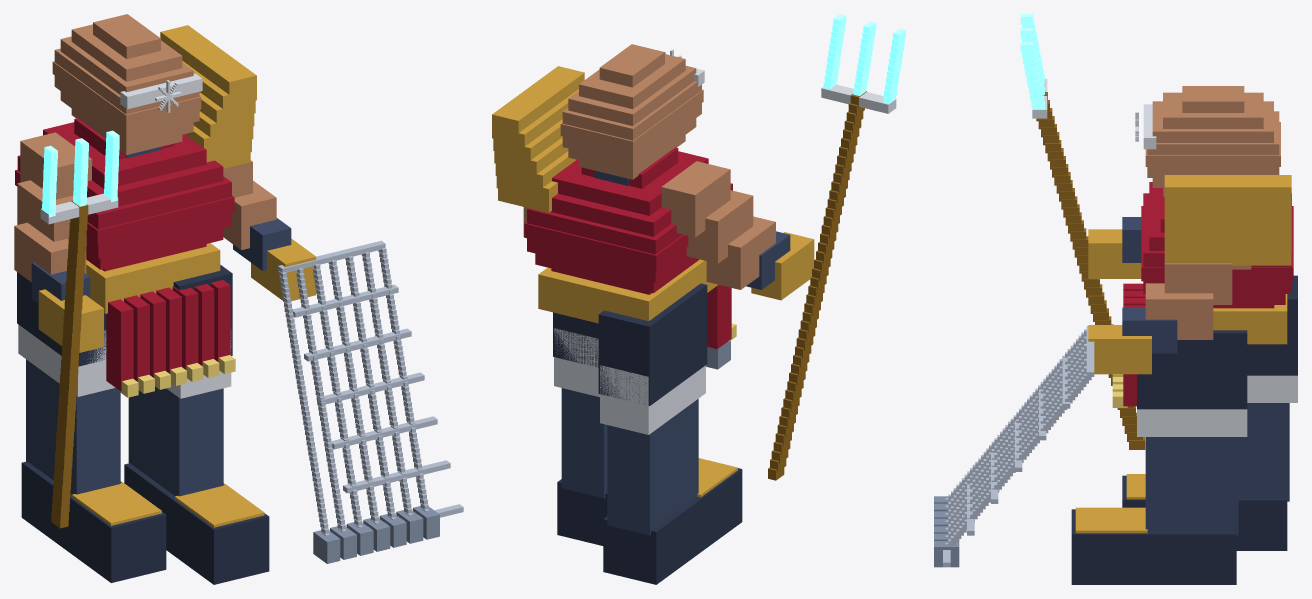
Rendered from arena-retiarius.glb.
3 renders of one model, left to right at view 1: azimuth 30°, elevation 25°; view 2: azimuth 150°, elevation 25°; view 3: azimuth 270°, elevation 25°, orthographic. The views are drawn at different scales.
Parts seen in each view (by area): view 1: Net, Greaves, Armor, Boots, Head, Cloth, Arms, Galerus, Trident, Trim, Hands, Belt (+4 smaller); view 2: Armor, Greaves, Head, Cloth, Arms, Boots, Galerus, Trident, Knees, Belt, Glow, Hands (+1 smaller); view 3: Greaves, Boots, Galerus, Head, Cloth, Net, Arms, Armor, Hands, Trident, Knees, Trim (+4 smaller).
Boxes of the visible parts, x1=… form: Net: x1=278, y1=240, x2=463, y2=535; Greaves: x1=26, y1=359, x2=223, y2=496; Armor: x1=15, y1=118, x2=234, y2=271; Boots: x1=21, y1=461, x2=269, y2=584; Head: x1=52, y1=14, x2=201, y2=154; Cloth: x1=17, y1=265, x2=232, y2=391; Arms: x1=14, y1=132, x2=291, y2=303; Galerus: x1=160, y1=25, x2=256, y2=168; Trident: x1=40, y1=193, x2=118, y2=528; Trim: x1=72, y1=355, x2=264, y2=527; Hands: x1=38, y1=238, x2=316, y2=352; Belt: x1=86, y1=243, x2=220, y2=313; Armor: x1=524, y1=147, x2=732, y2=294; Greaves: x1=561, y1=388, x2=698, y2=535; Head: x1=560, y1=44, x2=703, y2=179; Cloth: x1=553, y1=283, x2=731, y2=405; Arms: x1=523, y1=161, x2=790, y2=289; Boots: x1=557, y1=468, x2=742, y2=584; Galerus: x1=492, y1=66, x2=584, y2=212; Trident: x1=768, y1=84, x2=896, y2=480; Knees: x1=554, y1=328, x2=705, y2=434; Belt: x1=538, y1=259, x2=718, y2=323; Glow: x1=823, y1=14, x2=905, y2=103; Hands: x1=751, y1=232, x2=814, y2=300; Greaves: x1=1145, y1=403, x2=1289, y2=535; Boots: x1=1071, y1=475, x2=1287, y2=584; Galerus: x1=1164, y1=175, x2=1291, y2=265; Head: x1=1145, y1=86, x2=1280, y2=196; Cloth: x1=1123, y1=275, x2=1297, y2=409; Net: x1=943, y1=326, x2=1094, y2=567; Arms: x1=1122, y1=217, x2=1251, y2=353; Armor: x1=1141, y1=182, x2=1293, y2=308; Hands: x1=1088, y1=229, x2=1151, y2=374; Trident: x1=1032, y1=78, x2=1145, y2=449; Knees: x1=1137, y1=375, x2=1297, y2=436; Trim: x1=1075, y1=374, x2=1147, y2=533.
Size of the model in its own units: 1.3 by 1.68 by 1.2.
